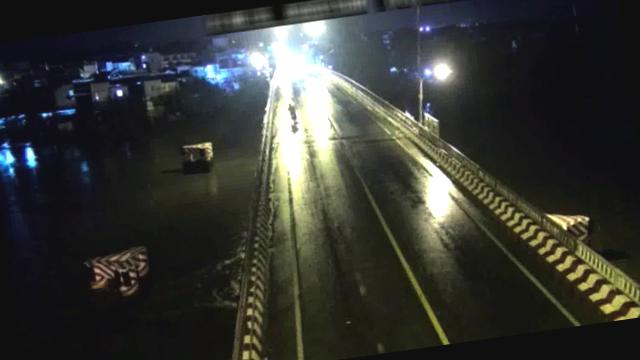Bike: (284, 96, 300, 126)
